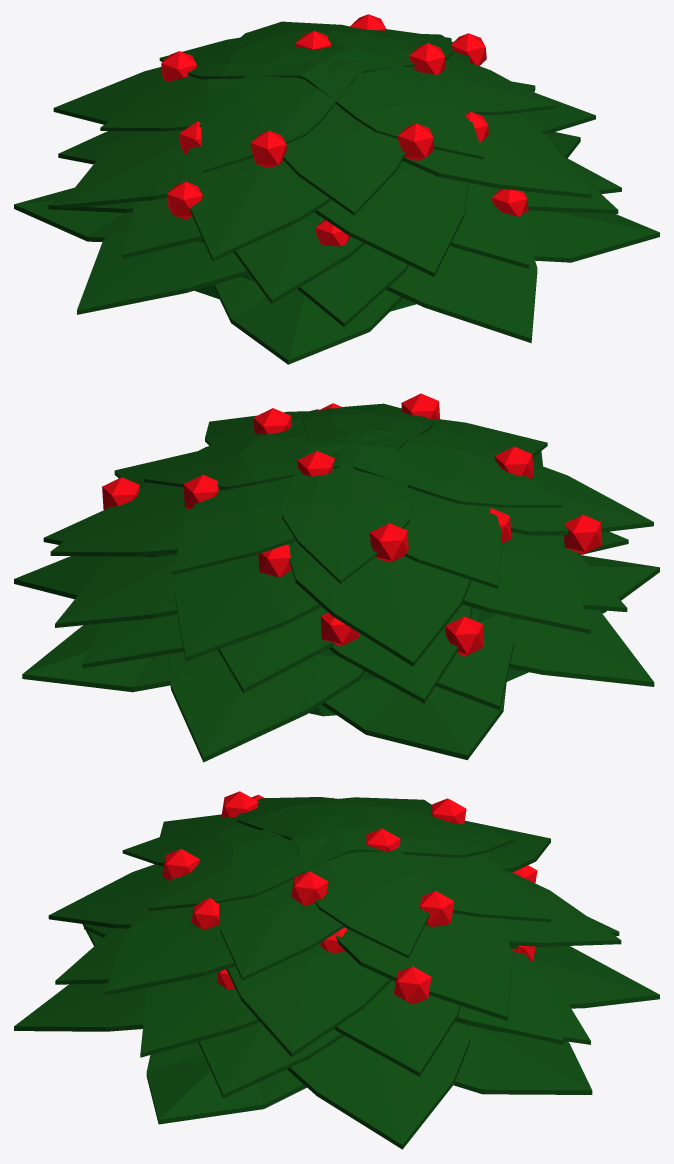
File: BushLRedFruits.obj
The picture shows the model from 3 angles, top to bottom: view 1: azimuth 30°, elevation 25°; view 2: azimuth 150°, elevation 25°; view 3: azimuth 270°, elevation 25°; orthographic projection. The views are drawn at different scales.
Visible parts, largest first — view 1: BushLRedFruits_Icosphere.138; view 2: BushLRedFruits_Icosphere.138; view 3: BushLRedFruits_Icosphere.138.
Boxes of the visible parts, left/top/right/bottom form: BushLRedFruits_Icosphere.138: left=14, top=14, right=659, bottom=364; BushLRedFruits_Icosphere.138: left=14, top=393, right=659, bottom=762; BushLRedFruits_Icosphere.138: left=14, top=791, right=659, bottom=1149.
Size of the model in its own units: 10 by 3.2 by 10.07.
